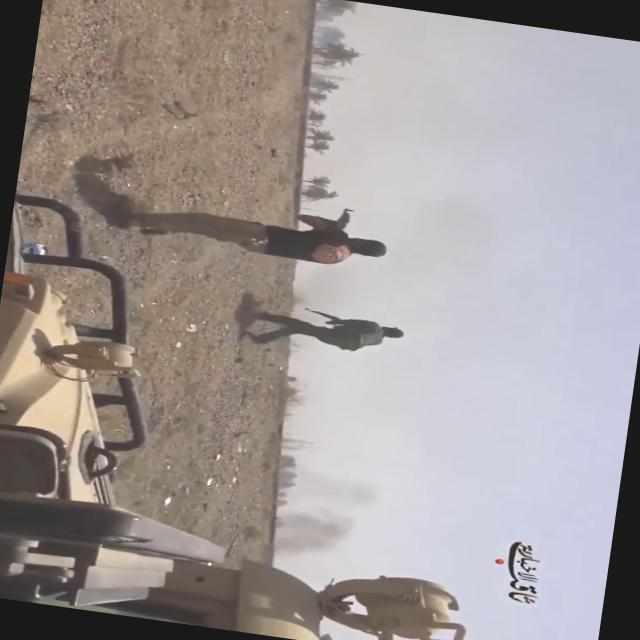long weapon: (315, 201, 366, 243), (300, 304, 354, 330)
